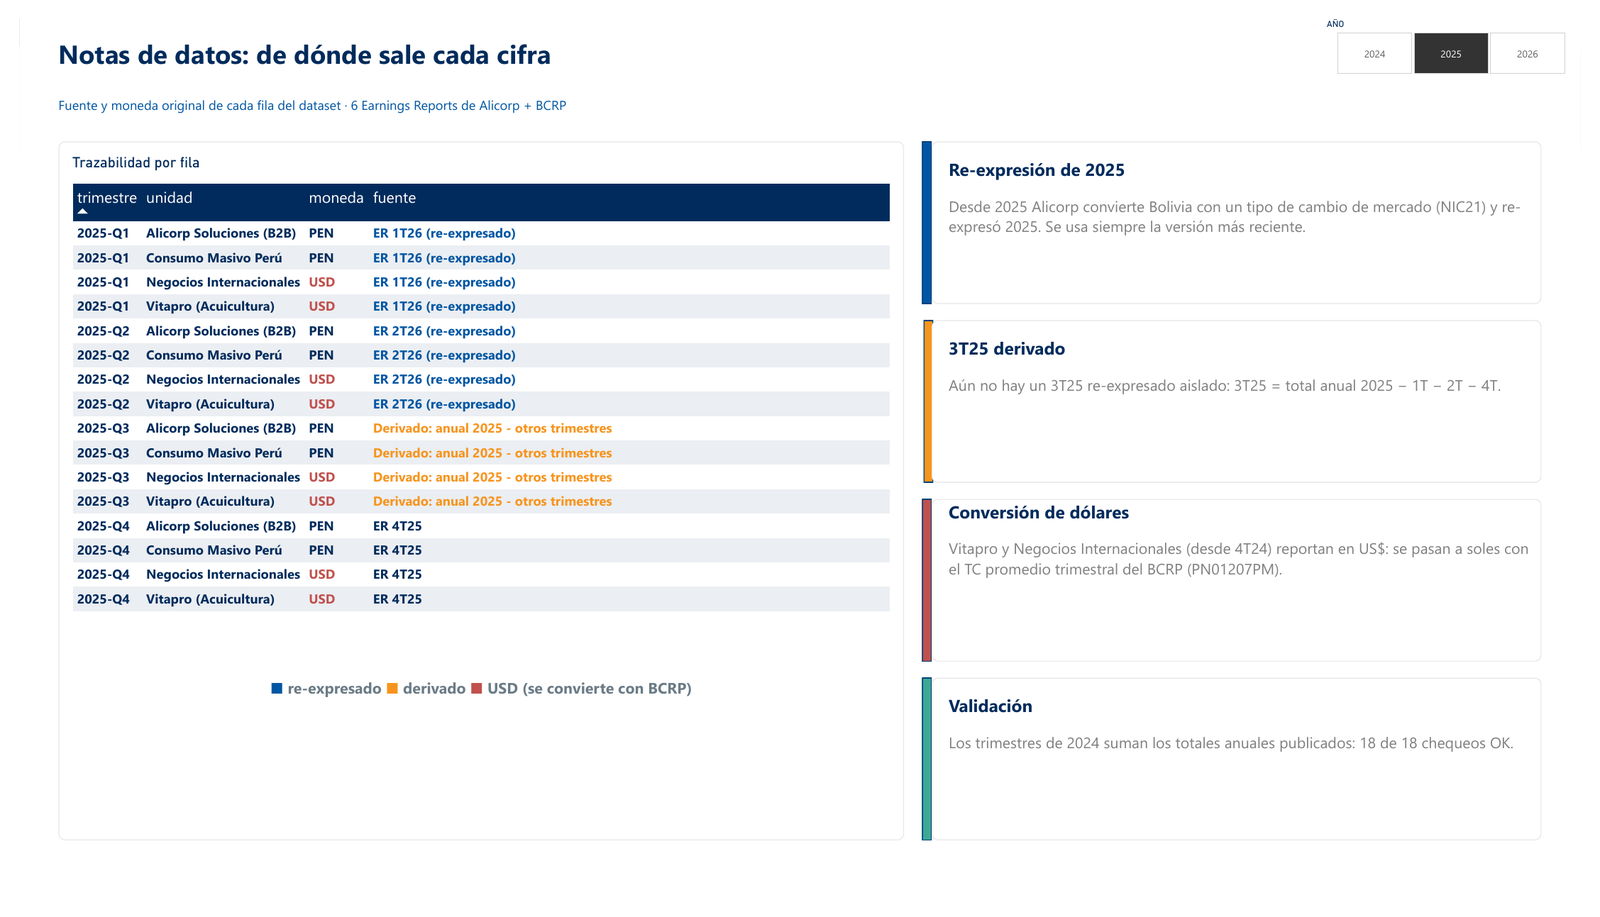

What the dashboard file says about the page in this screenshot:
{"tool":"powerbi","page":{"name":"Notas de Datos","canvas":[1920,1080],"ordinal":4},"visuals":[{"type":"slicer","fields":{"Values":["dim_trimestre.anio"]},"box":[1600,0,320,68.6],"z":0},{"type":"textbox","box":[48,20,1500,70],"z":1000},{"type":"textbox","box":[48,95,700,30],"z":2000},{"type":"tableEx","title":"Trazabilidad por fila","fields":{"Values":["fact_unidades.trimestre","fact_unidades.unidad","fact_unidades.moneda","fact_unidades.fuente"]},"box":[47.5,150,1040,860],"z":3000},{"type":"textbox","box":[1122,150,750,200],"z":4000},{"type":"shape","box":[1110,150,12,200],"z":5000},{"type":"shape","box":[1112,370,12,200],"z":6000},{"type":"textbox","box":[1122,370,750,200],"z":7000},{"type":"shape","box":[1110,590,12,200],"z":8000},{"type":"textbox","box":[1122,590,750,200],"z":9000},{"type":"shape","box":[1110,810,12,200],"z":10000},{"type":"textbox","box":[1122,810,750,200],"z":11000},{"type":"textbox","box":[67.5,810,1000,40],"z":12000}]}

Visuals, with their boxes in screenshot pixels (x1, y1, x2, y2), scaled from the page's 1920x1080 canvas onto the 1600x917 screenshot:
slicer - dim_trimestre.anio: region(1333, 0, 1599, 58)
textbox: region(40, 17, 1290, 76)
textbox: region(40, 81, 623, 106)
"Trazabilidad por fila" tableEx: region(40, 127, 906, 858)
textbox: region(935, 127, 1560, 297)
shape: region(925, 127, 935, 297)
shape: region(927, 314, 937, 484)
textbox: region(935, 314, 1560, 484)
shape: region(925, 501, 935, 671)
textbox: region(935, 501, 1560, 671)
shape: region(925, 688, 935, 858)
textbox: region(935, 688, 1560, 858)
textbox: region(56, 688, 890, 722)
